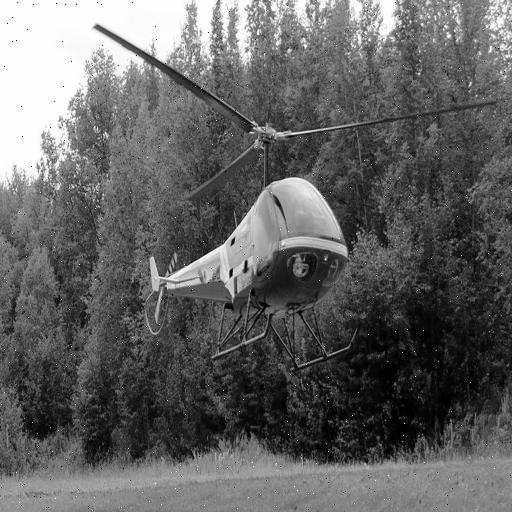helicopter: (95, 27, 497, 365)
